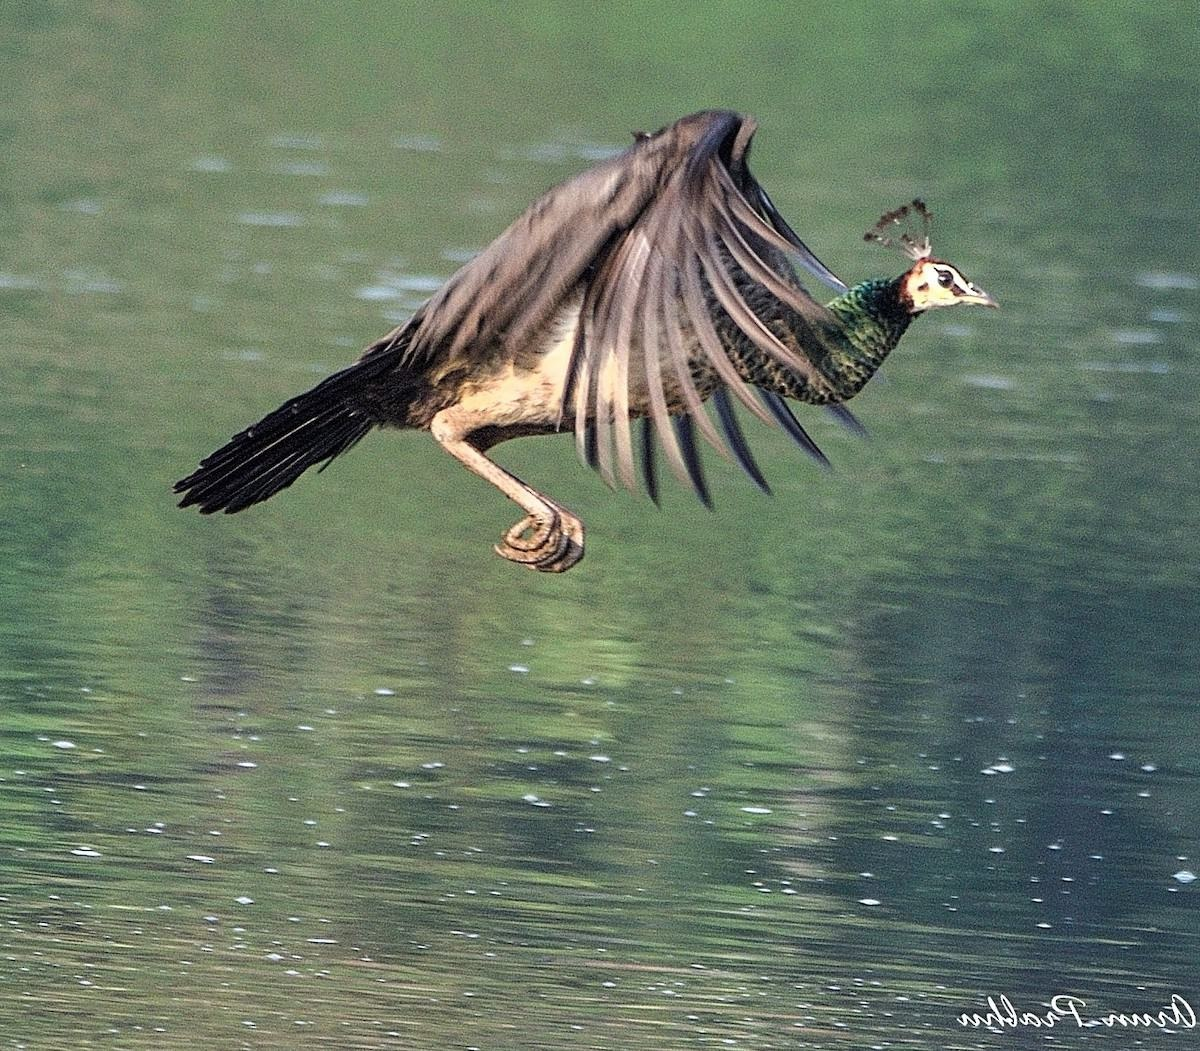peacock: (170, 114, 1026, 591)
